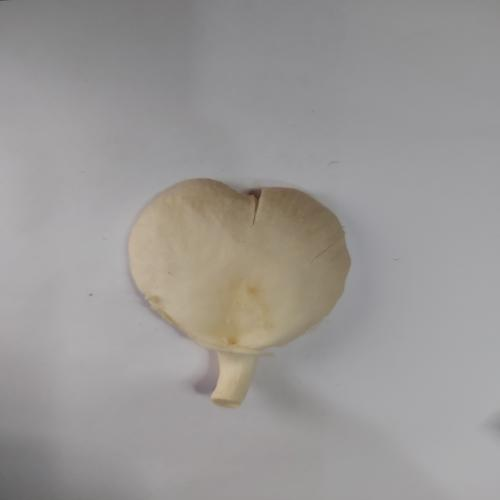Oyster Mushroom: (126, 176, 352, 409)
